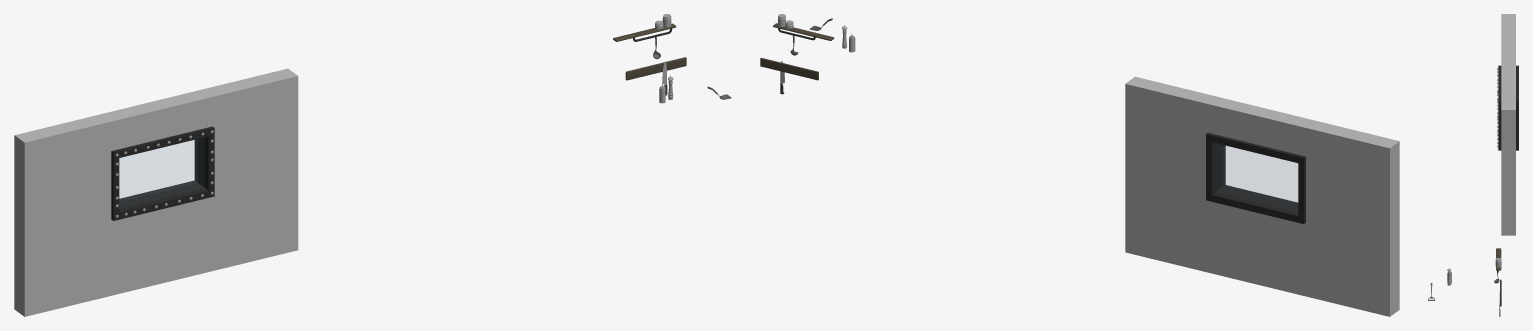
The picture shows the model from 3 angles, left to right: view 1: azimuth 30°, elevation 25°; view 2: azimuth 150°, elevation 25°; view 3: azimuth 270°, elevation 25°; orthographic projection. The views are drawn at different scales.
Parts seen in each view (by area): view 1: Wall_Main_01, Glass_Cover_01, Glass_Main_01, Knife_Magnet_01; view 2: Wall_Main_01, Glass_Cover_01, Glass_Main_01, Knife_Magnet_01; view 3: Wall_Main_01, Glass_Cover_01, Glass_Screws_01, Shelf_01.
Boxes of the visible parts, x1=… form: Wall_Main_01: x1=14, y1=68, x2=298, y2=316; Glass_Cover_01: x1=111, y1=126, x2=214, y2=220; Glass_Main_01: x1=120, y1=139, x2=197, y2=201; Knife_Magnet_01: x1=625, y1=57, x2=686, y2=80; Wall_Main_01: x1=1125, y1=76, x2=1399, y2=316; Glass_Cover_01: x1=1206, y1=132, x2=1305, y2=223; Glass_Main_01: x1=1222, y1=145, x2=1297, y2=205; Knife_Magnet_01: x1=760, y1=58, x2=818, y2=80; Wall_Main_01: x1=1501, y1=14, x2=1515, y2=235; Glass_Cover_01: x1=1498, y1=65, x2=1518, y2=150; Glass_Screws_01: x1=1497, y1=68, x2=1498, y2=147; Shelf_01: x1=1496, y1=248, x2=1501, y2=272.
Bounding box in the file's own units: 1188 × 299 × 197.
